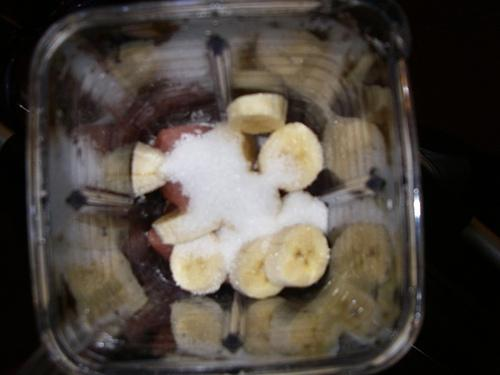banana: (84, 41, 164, 112), (324, 115, 390, 185), (259, 122, 323, 192), (264, 224, 332, 288), (78, 272, 147, 334), (61, 246, 130, 308), (320, 276, 388, 338), (268, 301, 339, 360), (330, 222, 393, 287), (169, 232, 228, 294), (229, 235, 284, 298), (284, 52, 346, 106), (253, 29, 322, 77), (170, 296, 224, 355), (226, 92, 289, 135), (244, 296, 288, 356), (152, 208, 222, 244), (131, 142, 167, 198), (100, 144, 134, 196), (232, 70, 290, 100)
